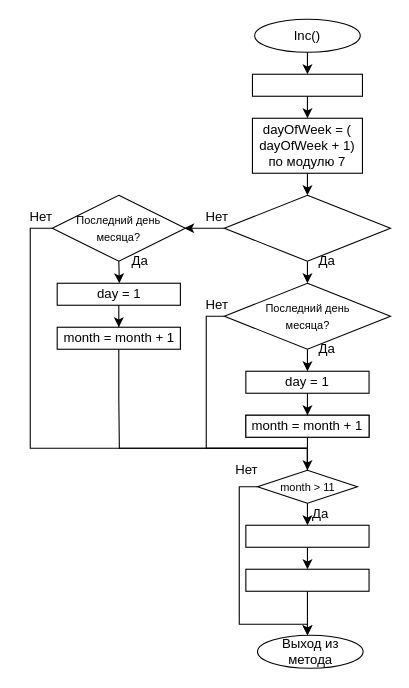
Image size: 409x688. Some labels were removed from this diagram. The shapes that lost their labels are listed below. From the top down, each one's box as (x1, y1, x2, y2) in pixels, then its label:
(251, 73, 362, 96): day = day + 1
(223, 194, 391, 261): Год високосный и месяц февраль?
(245, 524, 369, 547): month = 0
(245, 568, 369, 591): year = year + 1
